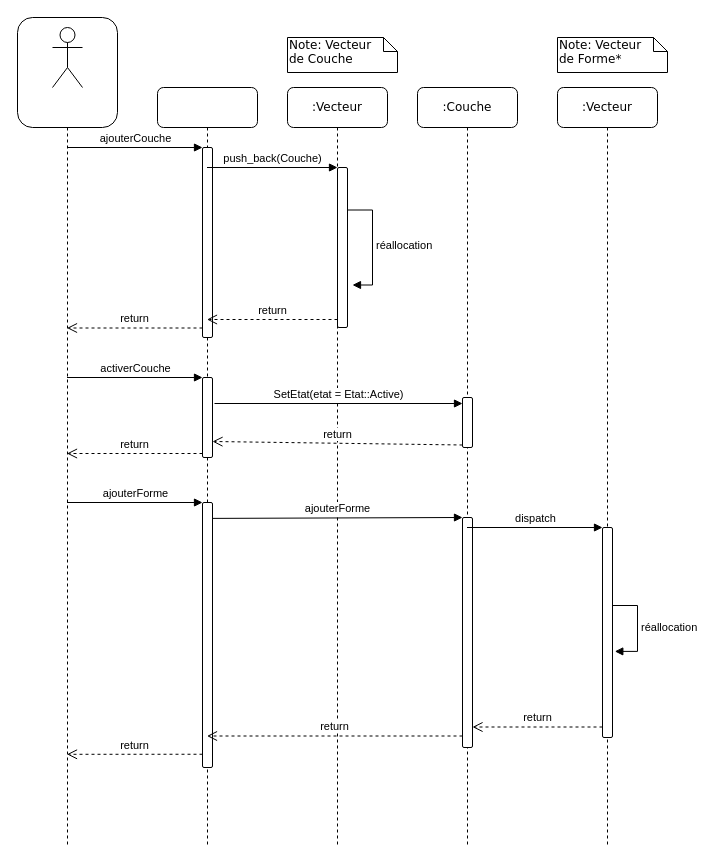
Image size: 715x865. Some labels were removed from this diagram. Each missing label, with the centre of its shape:
":Canevas" belongs at (x=207, y=467).
":Concepteur Graphique" belongs at (x=67, y=57).
